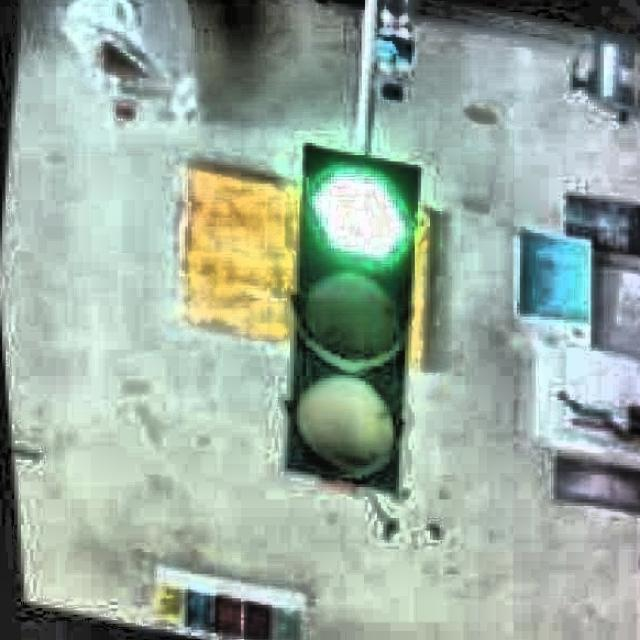green: (301, 138, 415, 499)
